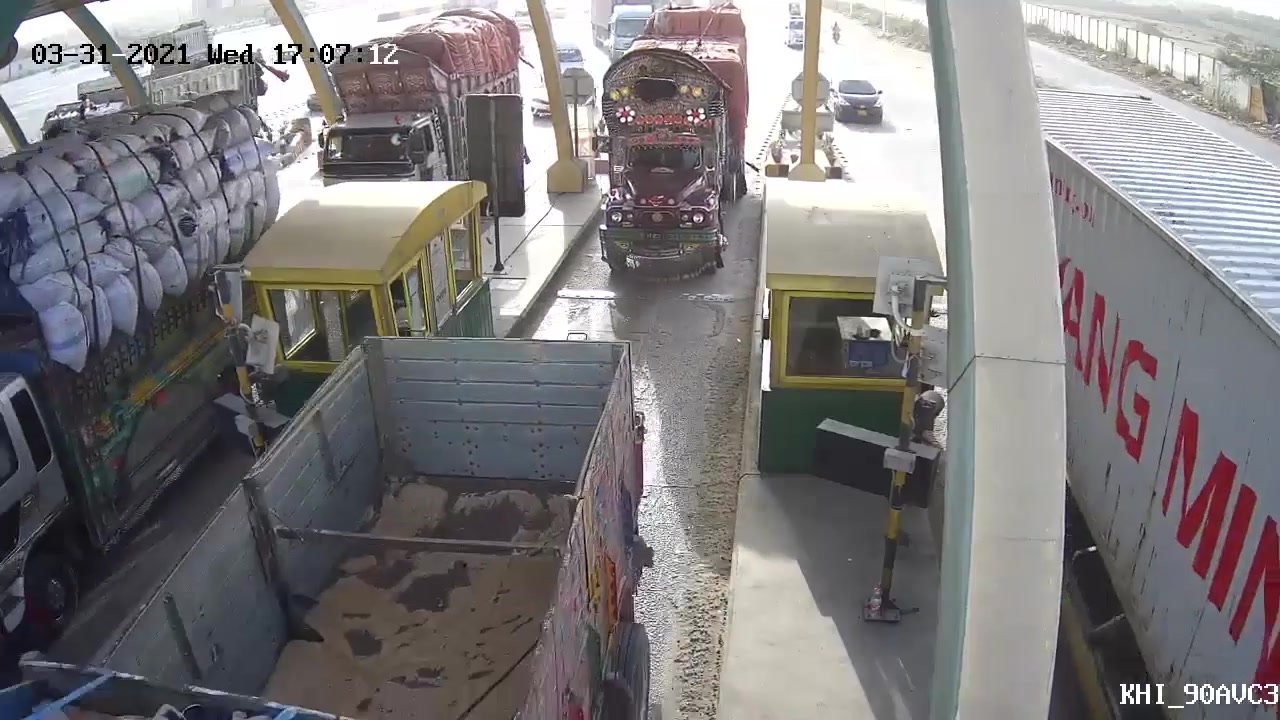F5: (583, 4, 757, 294)
